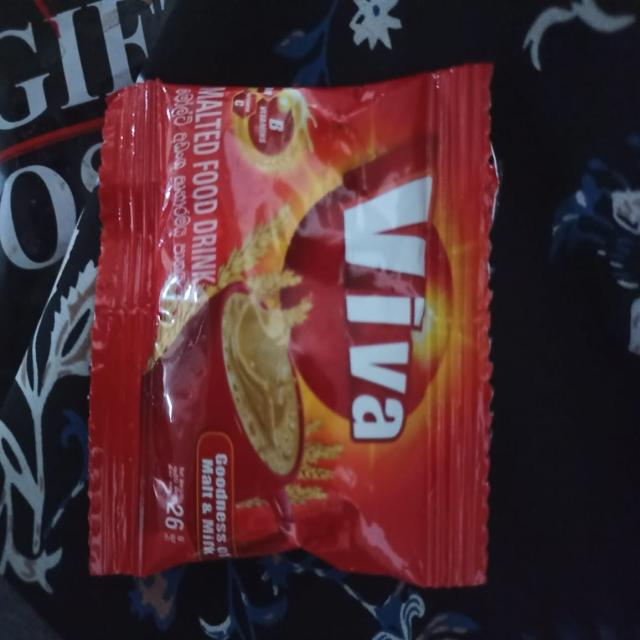Viva Malt: (76, 66, 512, 613)
